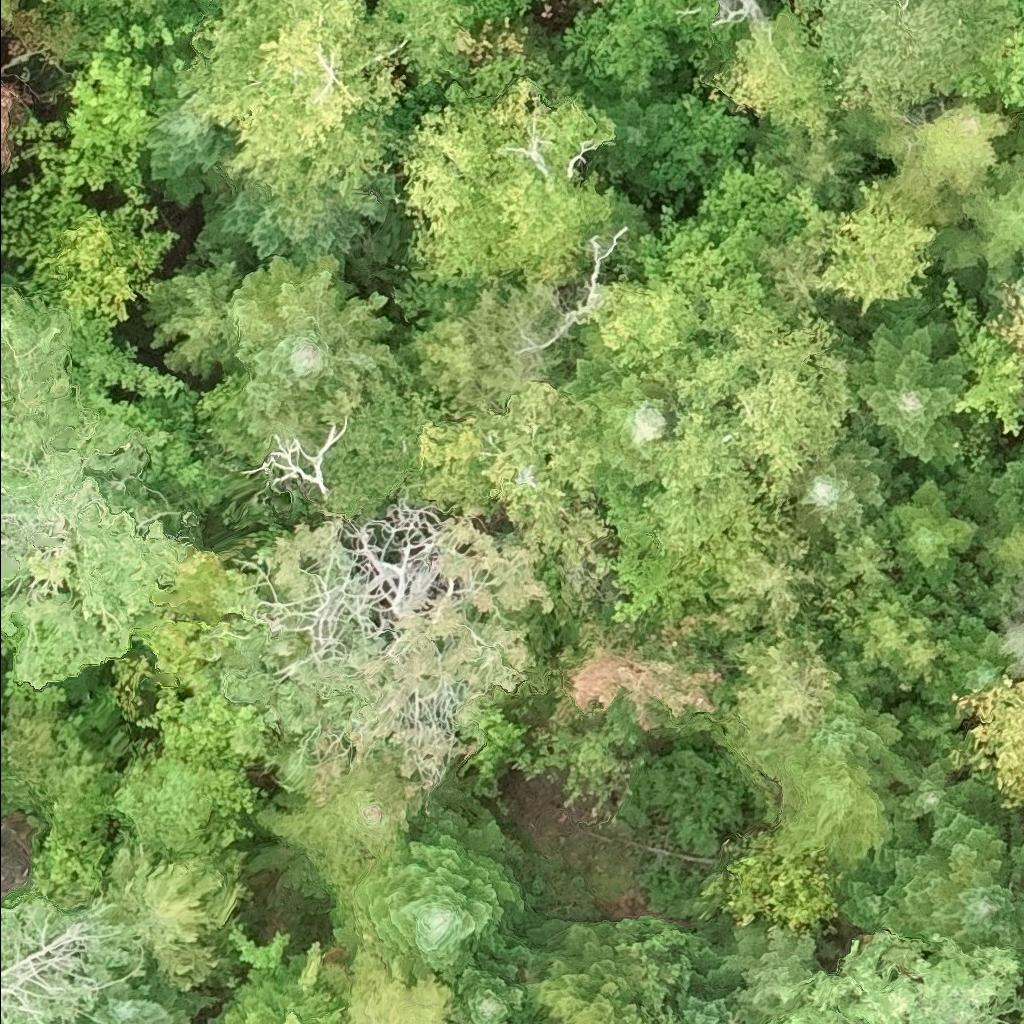crown: (0, 314, 189, 685), (398, 76, 651, 292), (169, 0, 406, 227), (668, 310, 864, 517), (219, 252, 401, 468), (589, 204, 774, 389), (417, 380, 605, 552), (832, 799, 1023, 968), (352, 808, 527, 983), (794, 0, 1002, 122), (247, 751, 411, 903), (767, 929, 1023, 1023), (643, 408, 776, 583), (847, 304, 970, 475), (102, 841, 243, 988), (558, 324, 677, 494), (551, 615, 731, 726), (411, 282, 562, 410), (764, 724, 895, 870), (804, 176, 936, 318), (64, 11, 173, 171), (881, 98, 1016, 227), (927, 114, 1023, 295), (715, 622, 840, 759), (700, 829, 845, 946), (193, 174, 368, 268), (447, 893, 571, 1023), (369, 0, 538, 88), (141, 244, 247, 378), (939, 272, 1023, 437), (111, 748, 237, 856), (788, 425, 897, 547), (323, 929, 451, 1023), (717, 526, 821, 638), (206, 938, 341, 1023), (45, 0, 217, 66), (945, 673, 1023, 814), (811, 689, 921, 788), (888, 474, 980, 589), (534, 920, 636, 1023), (715, 920, 816, 1023), (140, 106, 235, 209), (75, 957, 220, 1023), (919, 618, 1014, 706), (887, 753, 999, 822), (957, 0, 1023, 108), (606, 531, 681, 626), (31, 826, 109, 907), (463, 695, 532, 782), (664, 943, 737, 1023), (985, 441, 1023, 532), (982, 282, 1023, 353), (1000, 595, 1023, 677), (0, 83, 15, 174), (0, 764, 34, 803), (282, 1003, 345, 1023), (0, 666, 8, 732), (1014, 248, 1023, 291), (39, 0, 51, 6), (634, 1020, 648, 1023), (1018, 1018, 1023, 1023)
